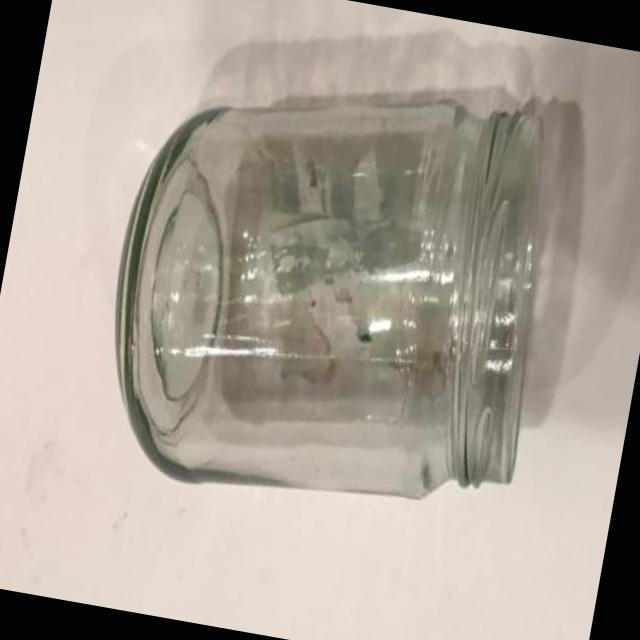chai_thuy_tinh: (115, 97, 566, 498)
